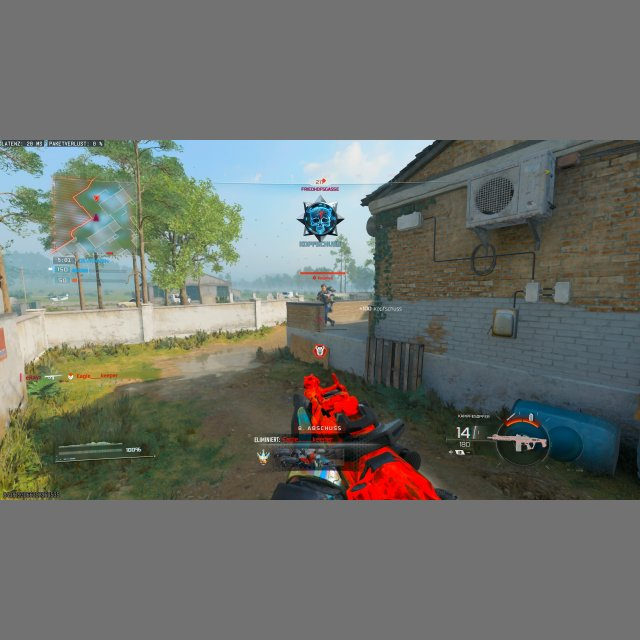player: (317, 284, 335, 326)
